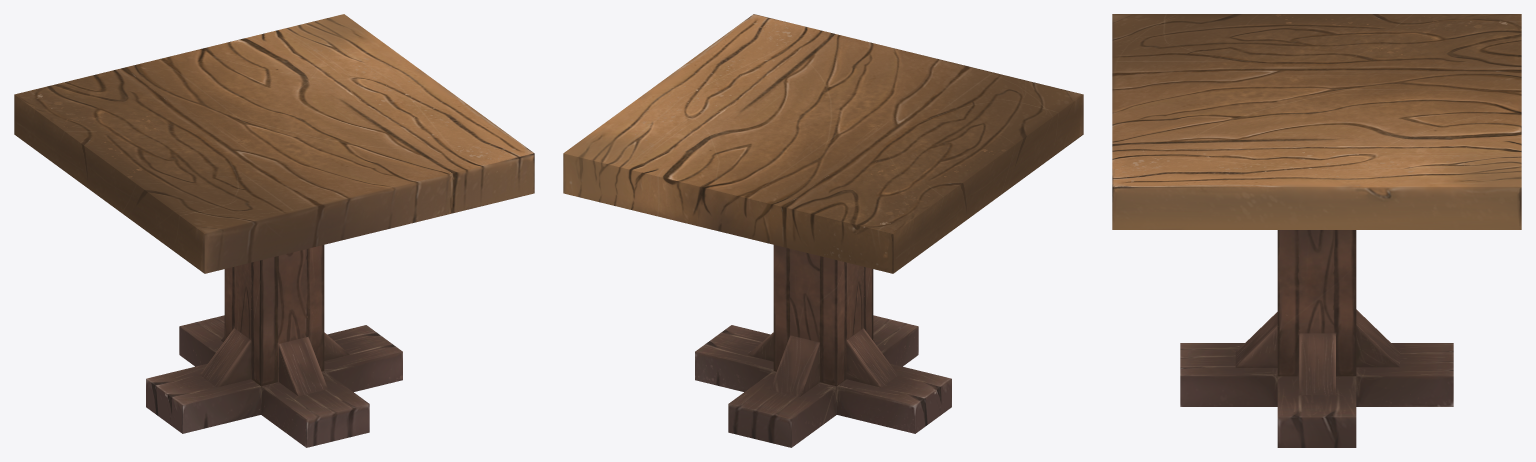
File: mesa-processed.glb
3 views of the same model, side by side, from view 1: azimuth 30°, elevation 25°; view 2: azimuth 150°, elevation 25°; view 3: azimuth 270°, elevation 25° (orthographic). The views are drawn at different scales.
Parts seen in each view (by area): view 1: Mesa; view 2: Mesa; view 3: Mesa.
Part boxes in pixels (bbox=[...]): Mesa: bbox=[14, 14, 534, 447]; Mesa: bbox=[563, 14, 1083, 447]; Mesa: bbox=[1112, 14, 1521, 447].
Size of the model in its own units: 16.99 by 13.27 by 16.99.
Materials: 1 (1 with a texture image).
